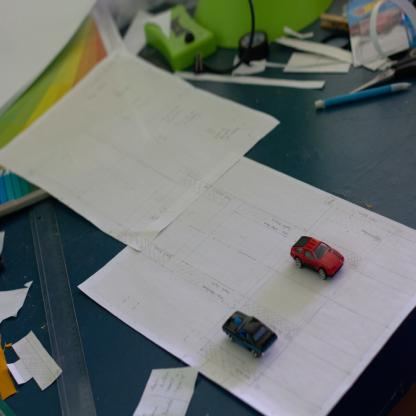Car: (223, 311, 279, 362), (292, 234, 347, 281)
